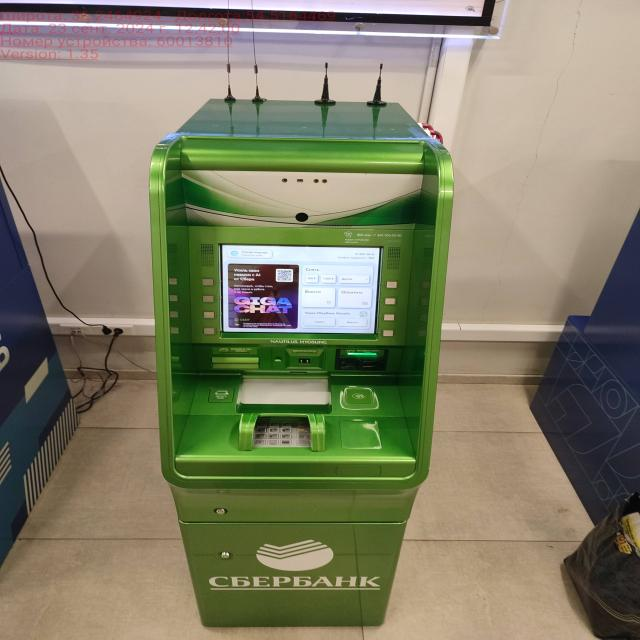bank: (150, 94, 452, 626)
